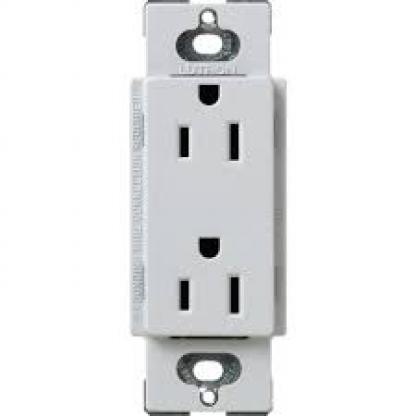OUTLET: (140, 76, 280, 338)
